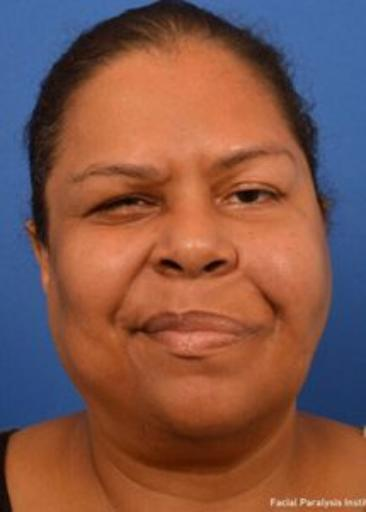left_eye: (219, 187, 283, 213)
left_lip_corner: (227, 317, 262, 350)
right_eye: (83, 198, 159, 222)
right_lip_corner: (124, 320, 151, 341)
